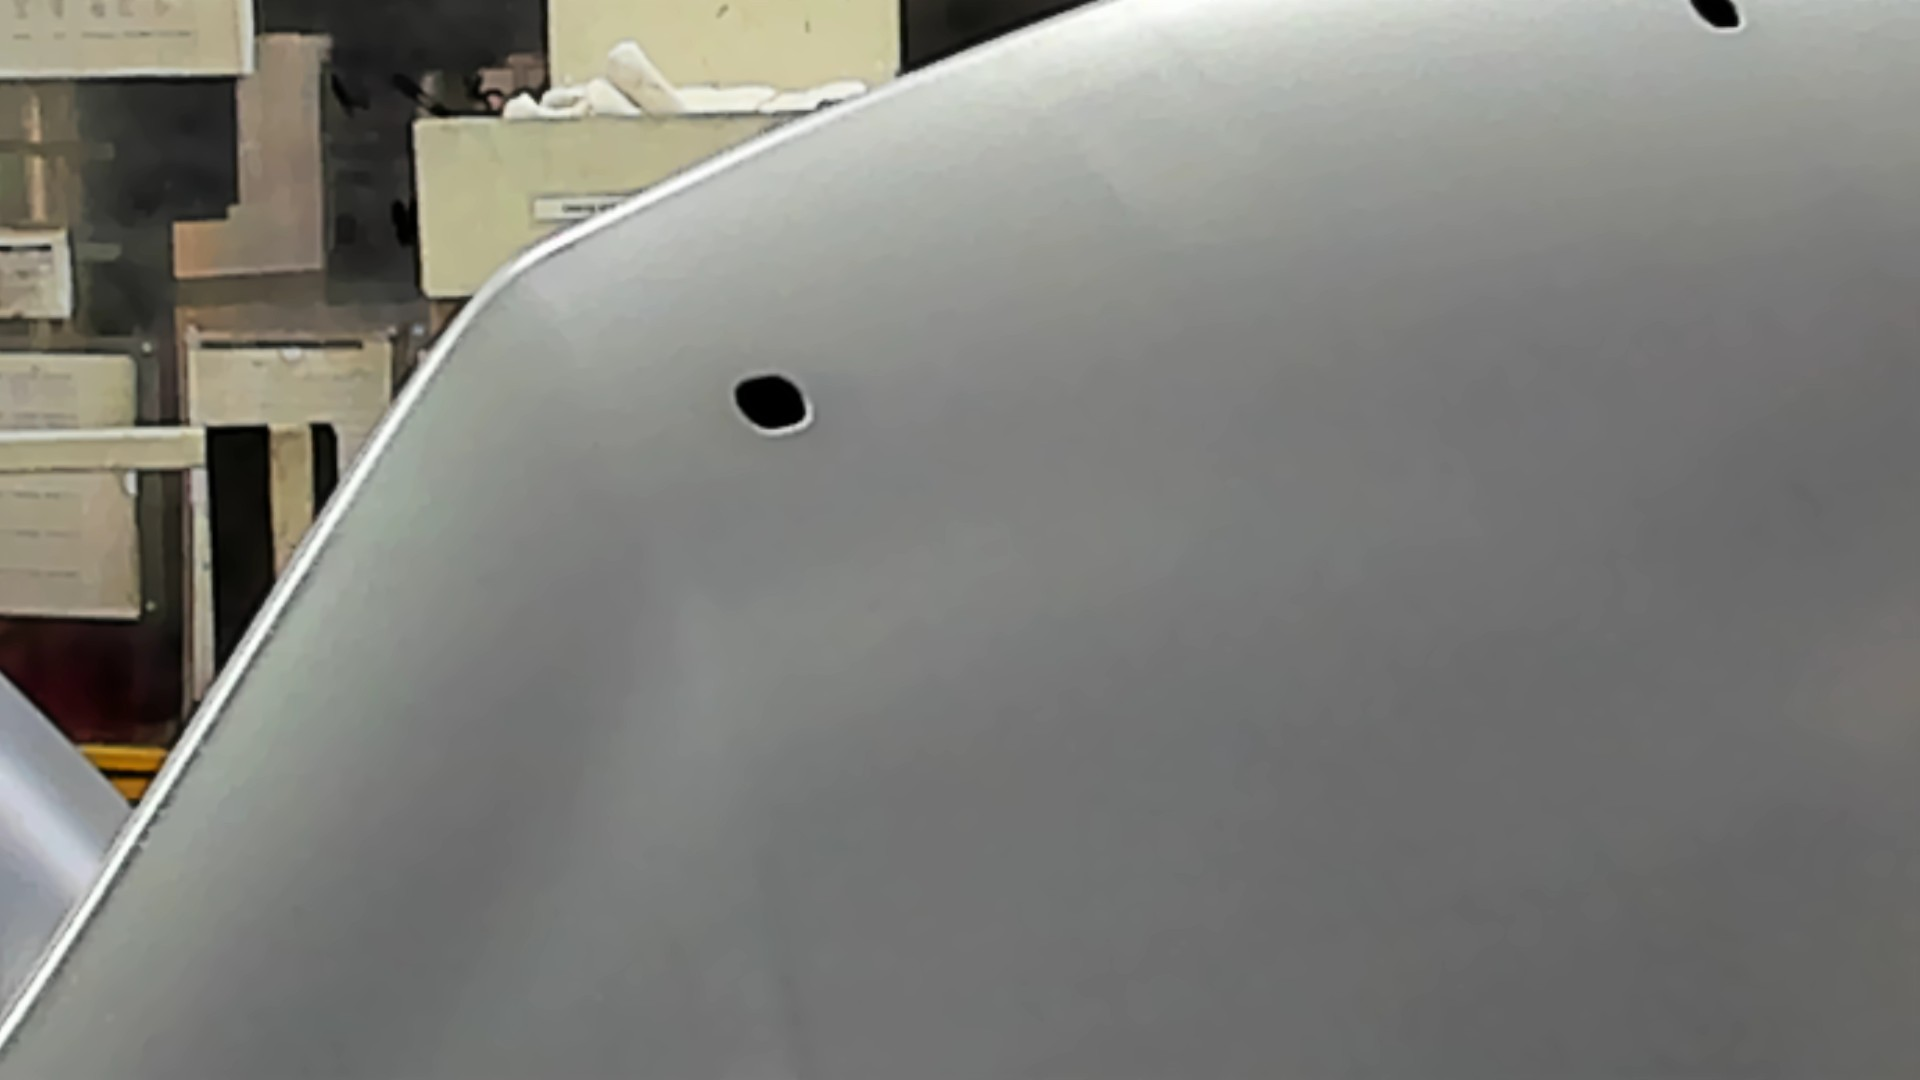amorfo: (727, 365, 818, 442), (1687, 1, 1755, 42)
